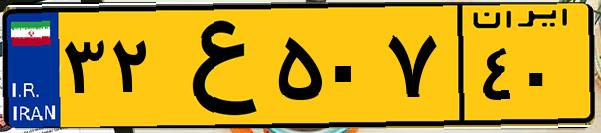0: (330, 28, 385, 110), (525, 38, 570, 115)
2: (110, 28, 158, 98)
3: (57, 26, 110, 100)
4: (475, 38, 525, 113)
5: (270, 28, 330, 110)
7: (385, 28, 445, 110)
ع: (158, 12, 270, 120)
